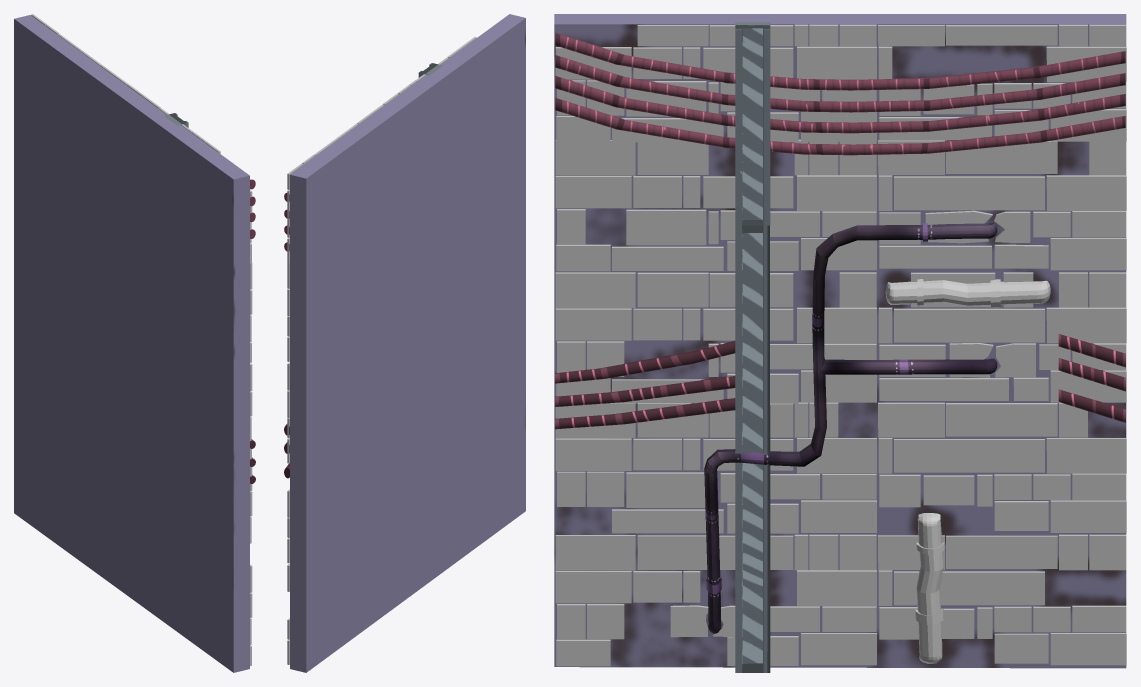
Rendered from FutureIntermid.fbx.
The picture shows the model from 3 angles, left to right: view 1: azimuth 30°, elevation 25°; view 2: azimuth 150°, elevation 25°; view 3: azimuth 270°, elevation 25°; orthographic projection. The views are drawn at different scales.
Parts seen in each view (by area): view 1: CITY INTERM.008; view 2: CITY INTERM.008; view 3: CITY INTERM.008.
Part boxes in pixels (bbox=[...]): CITY INTERM.008: bbox=[14, 14, 255, 672]; CITY INTERM.008: bbox=[284, 14, 525, 672]; CITY INTERM.008: bbox=[554, 14, 1126, 672].
Bounding box in the file's own units: 156 × 2483 × 1999.
